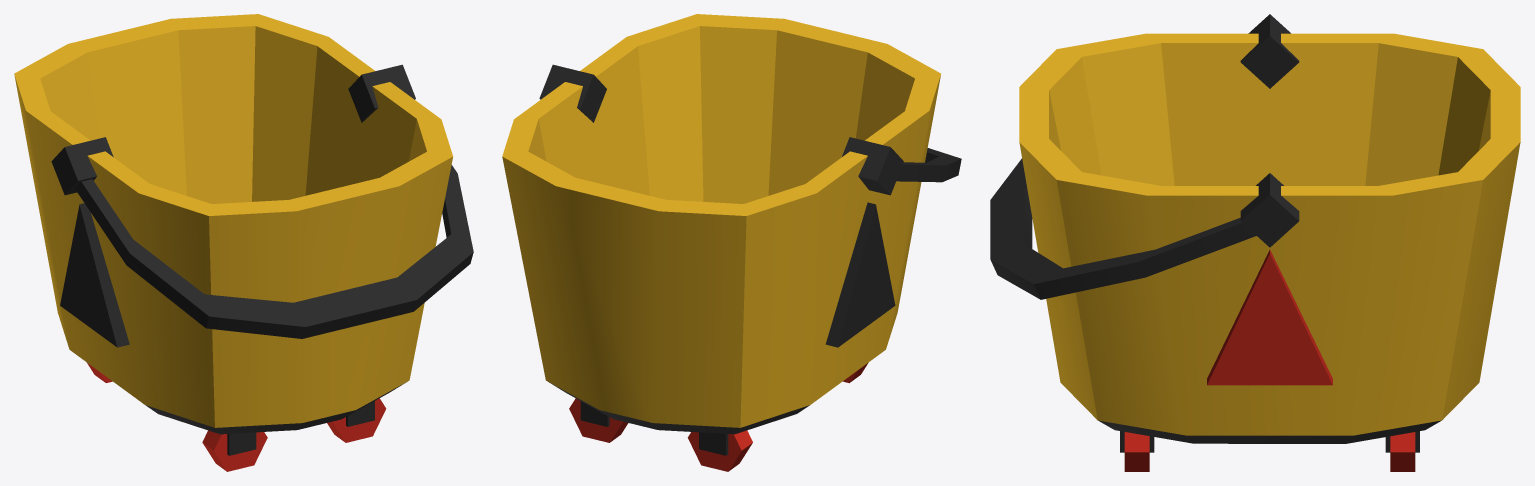
File: mesh_cleaning_cube.fbx
3 views of the same model, side by side, from view 1: azimuth 30°, elevation 25°; view 2: azimuth 150°, elevation 25°; view 3: azimuth 270°, elevation 25° (orthographic). The views are drawn at different scales.
Parts seen in each view (by area): view 1: mesh_cleaningbucket_01; view 2: mesh_cleaningbucket_01; view 3: mesh_cleaningbucket_01.
Boxes of the visible parts, <box> form: mesh_cleaningbucket_01: <box>14,14,473,471</box>; mesh_cleaningbucket_01: <box>502,14,961,471</box>; mesh_cleaningbucket_01: <box>990,14,1520,471</box>.
Bounding box in the file's own units: 12.51 × 10.6 × 15.5.
